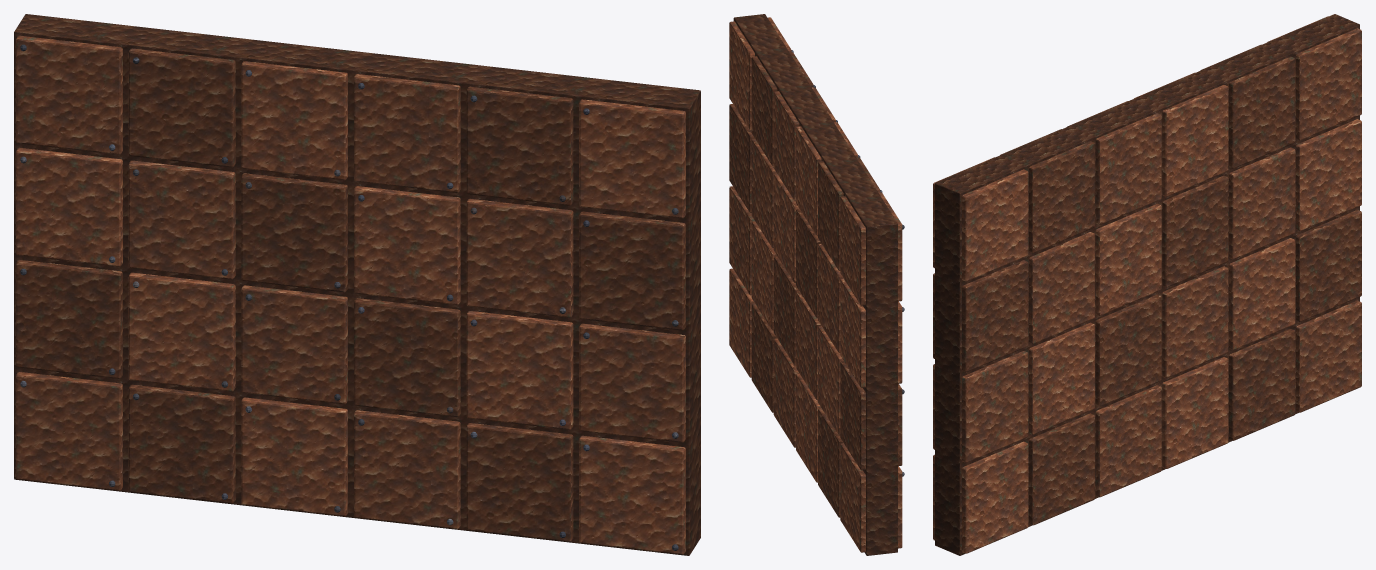
The model's file is wall_diagonal__copper_ingot.glb.
3 views of the same model, side by side, from view 1: azimuth 30°, elevation 25°; view 2: azimuth 150°, elevation 25°; view 3: azimuth 270°, elevation 25° (orthographic). The views are drawn at different scales.
Parts seen in each view (by area): view 1: model; view 2: model; view 3: model.
Boxes of the visible parts, x1,y1,x2,y2 form: model: (14, 14, 700, 555); model: (729, 14, 904, 555); model: (933, 14, 1361, 555).
Bounding box in the file's own units: 2.14 × 2 × 2.14.
7 materials, 7 textured.
